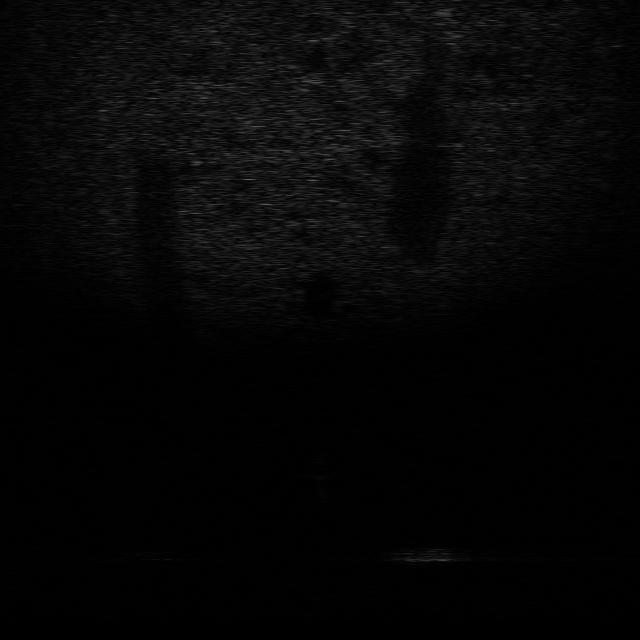ball: (298, 458, 342, 482)
metal bucket: (383, 538, 462, 569)
tyre: (124, 537, 185, 564)
